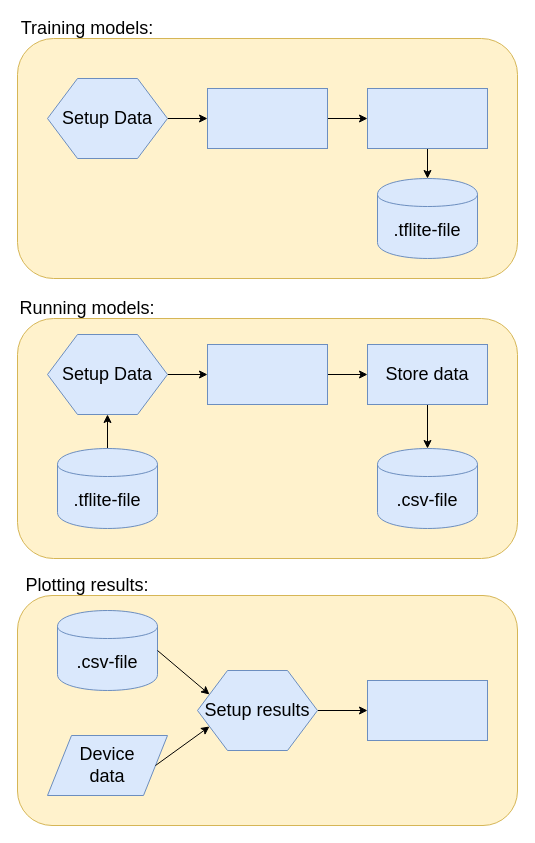
This 535x843 diagram has some shape labels left out. Each missing label, with the centre of its shape:
"Plot resutls" goes at (x=427, y=710).
"Run models" goes at (x=267, y=374).
"Store model" goes at (x=427, y=118).
"Train models" goes at (x=267, y=118).
